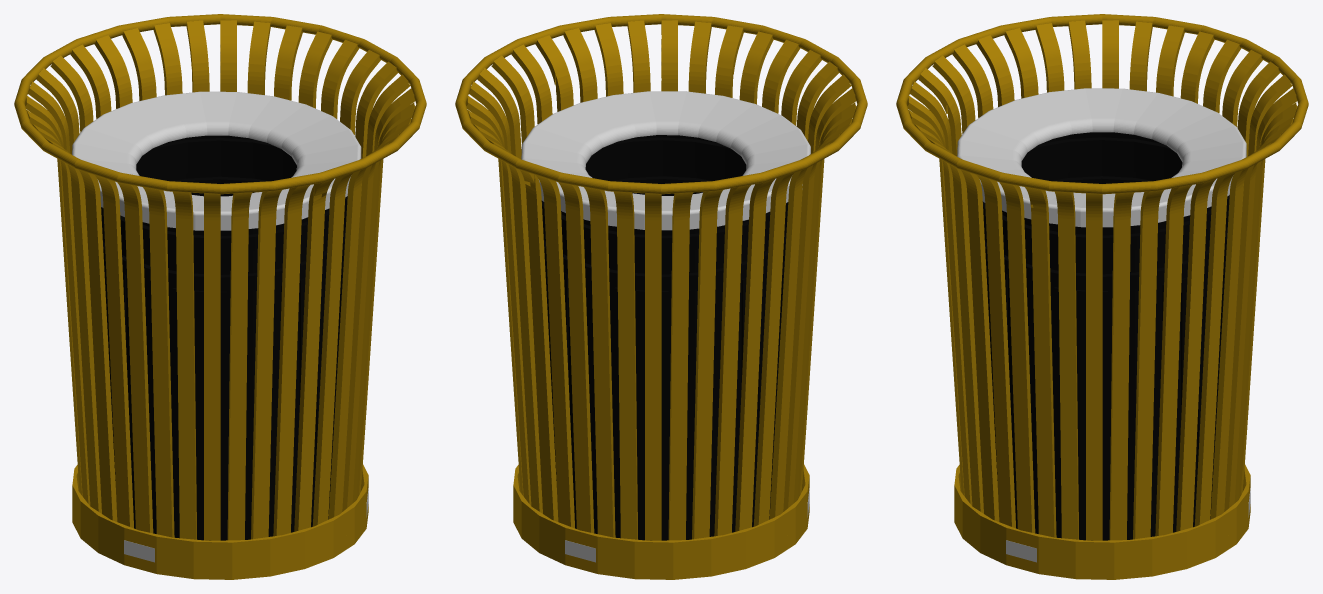
3 views of the same model, side by side, from view 1: azimuth 30°, elevation 25°; view 2: azimuth 150°, elevation 25°; view 3: azimuth 270°, elevation 25° (orthographic).
Visible parts, largest first — view 1: mesh73_mesh73-geometry, mesh179_mesh179-geometry, mesh94_mesh94-geometry, mesh139_mesh139-geometry, mesh125_mesh125-geometry, mesh99_mesh99-geometry, mesh129_mesh129-geometry, mesh119_mesh119-geometry, mesh107_mesh107-geometry, mesh111_mesh111-geometry, mesh150_mesh150-geometry, mesh117_mesh117-geometry (+34 smaller); view 2: mesh73_mesh73-geometry, mesh179_mesh179-geometry, mesh94_mesh94-geometry, mesh139_mesh139-geometry, mesh160_mesh160-geometry, mesh101_mesh101-geometry, mesh154_mesh154-geometry, mesh103_mesh103-geometry, mesh131_mesh131-geometry, mesh158_mesh158-geometry, mesh152_mesh152-geometry, mesh133_mesh133-geometry (+33 smaller); view 3: mesh73_mesh73-geometry, mesh179_mesh179-geometry, mesh94_mesh94-geometry, mesh139_mesh139-geometry, mesh113_mesh113-geometry, mesh142_mesh142-geometry, mesh140_mesh140-geometry, mesh144_mesh144-geometry, mesh146_mesh146-geometry, mesh109_mesh109-geometry, mesh170_mesh170-geometry, mesh148_mesh148-geometry (+34 smaller).
Boxes of the visible parts, left/top/right/bottom form: mesh73_mesh73-geometry: left=101, top=135, right=347, bottom=540; mesh179_mesh179-geometry: left=72, top=91, right=361, bottom=230; mesh94_mesh94-geometry: left=72, top=464, right=368, bottom=579; mesh139_mesh139-geometry: left=14, top=14, right=426, bottom=194; mesh125_mesh125-geometry: left=143, top=187, right=174, bottom=537; mesh99_mesh99-geometry: left=251, top=189, right=282, bottom=539; mesh129_mesh129-geometry: left=273, top=185, right=309, bottom=536; mesh119_mesh119-geometry: left=117, top=182, right=153, bottom=533; mesh107_mesh107-geometry: left=227, top=192, right=251, bottom=540; mesh111_mesh111-geometry: left=173, top=191, right=196, bottom=539; mesh150_mesh150-geometry: left=294, top=179, right=333, bottom=531; mesh117_mesh117-geometry: left=95, top=175, right=134, bottom=528; mesh73_mesh73-geometry: left=541, top=135, right=788, bottom=539; mesh179_mesh179-geometry: left=521, top=91, right=810, bottom=230; mesh94_mesh94-geometry: left=513, top=464, right=809, bottom=579; mesh139_mesh139-geometry: left=455, top=14, right=867, bottom=194; mesh160_mesh160-geometry: left=584, top=187, right=615, bottom=537; mesh101_mesh101-geometry: left=692, top=189, right=723, bottom=539; mesh154_mesh154-geometry: left=714, top=185, right=750, bottom=536; mesh103_mesh103-geometry: left=668, top=192, right=692, bottom=540; mesh131_mesh131-geometry: left=558, top=182, right=594, bottom=533; mesh158_mesh158-geometry: left=614, top=191, right=637, bottom=539; mesh152_mesh152-geometry: left=735, top=179, right=774, bottom=531; mesh133_mesh133-geometry: left=536, top=175, right=575, bottom=528; mesh73_mesh73-geometry: left=982, top=132, right=1229, bottom=540; mesh179_mesh179-geometry: left=957, top=88, right=1246, bottom=227; mesh94_mesh94-geometry: left=954, top=464, right=1250, bottom=579; mesh139_mesh139-geometry: left=896, top=14, right=1308, bottom=194; mesh113_mesh113-geometry: left=1025, top=187, right=1056, bottom=537; mesh142_mesh142-geometry: left=1133, top=189, right=1164, bottom=539; mesh140_mesh140-geometry: left=1155, top=185, right=1191, bottom=536; mesh144_mesh144-geometry: left=1109, top=192, right=1133, bottom=540; mesh146_mesh146-geometry: left=999, top=182, right=1035, bottom=533; mesh109_mesh109-geometry: left=1055, top=191, right=1078, bottom=539; mesh170_mesh170-geometry: left=1176, top=179, right=1215, bottom=531; mesh148_mesh148-geometry: left=977, top=175, right=1016, bottom=528.
Bounding box in the file's own units: 0.5535 × 0.6223 × 0.5535.
